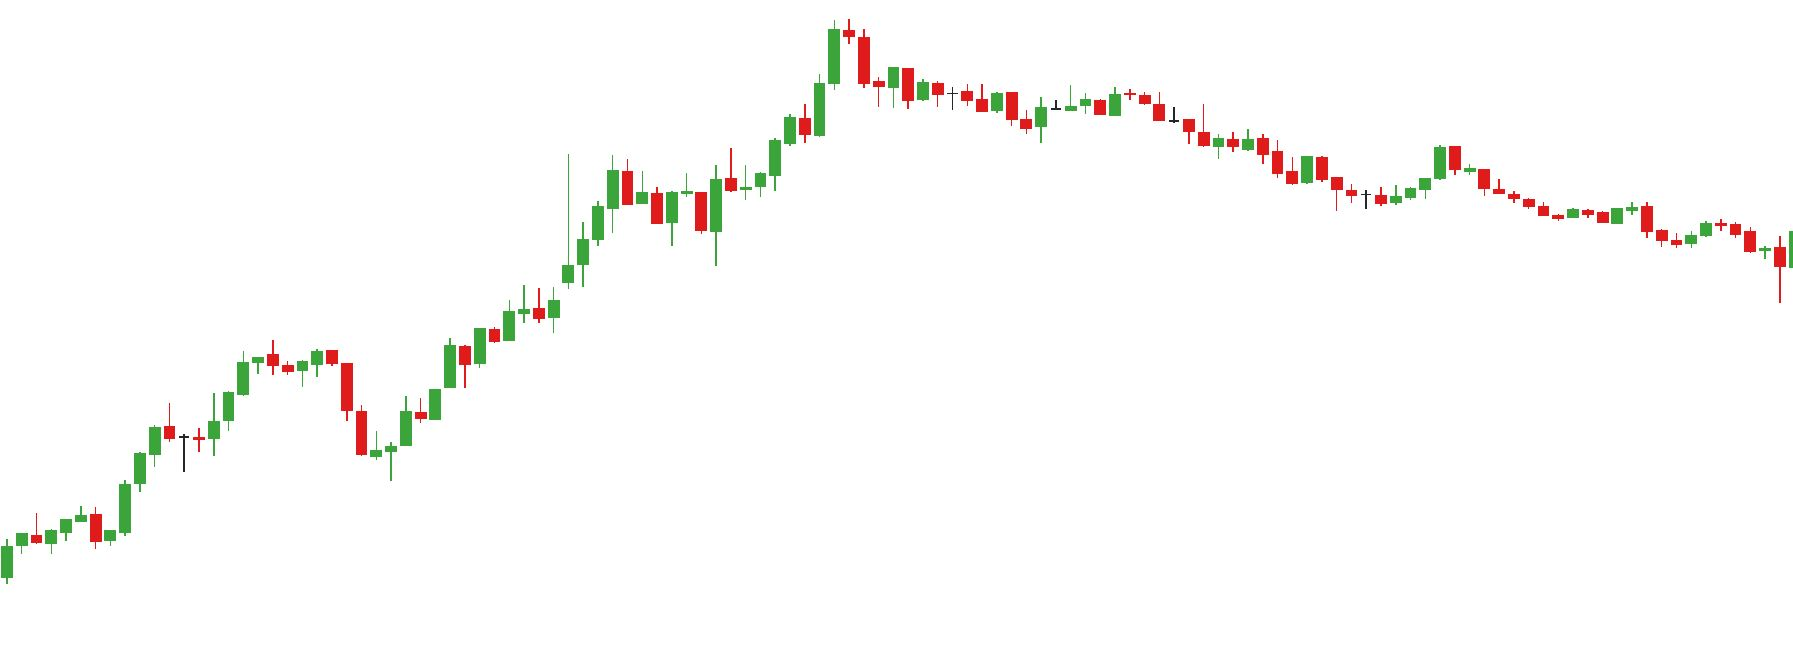buy: (178, 398, 396, 485)
sell: (1298, 144, 1463, 190)
